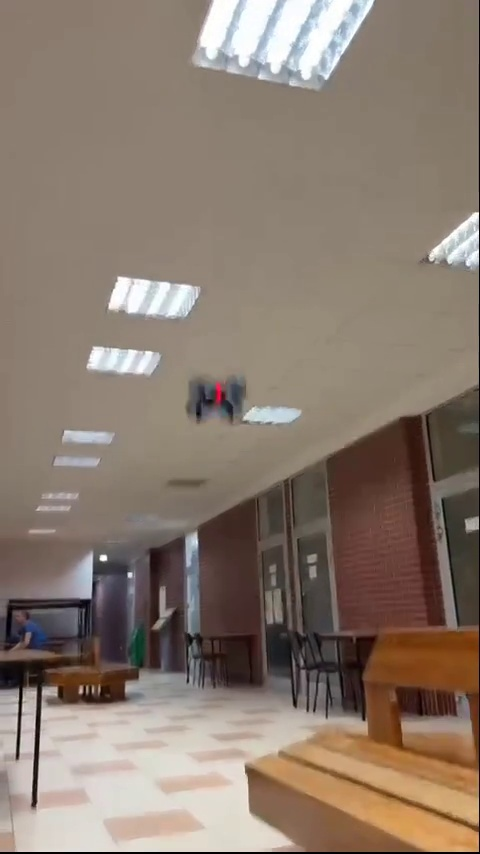drone: (184, 376, 251, 427)
no vest: (12, 611, 45, 650)
